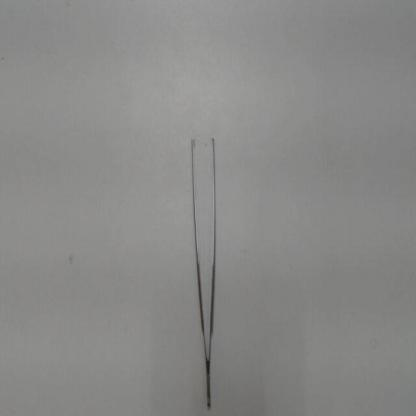Gillies Toothed Dissector: (181, 118, 224, 412)
